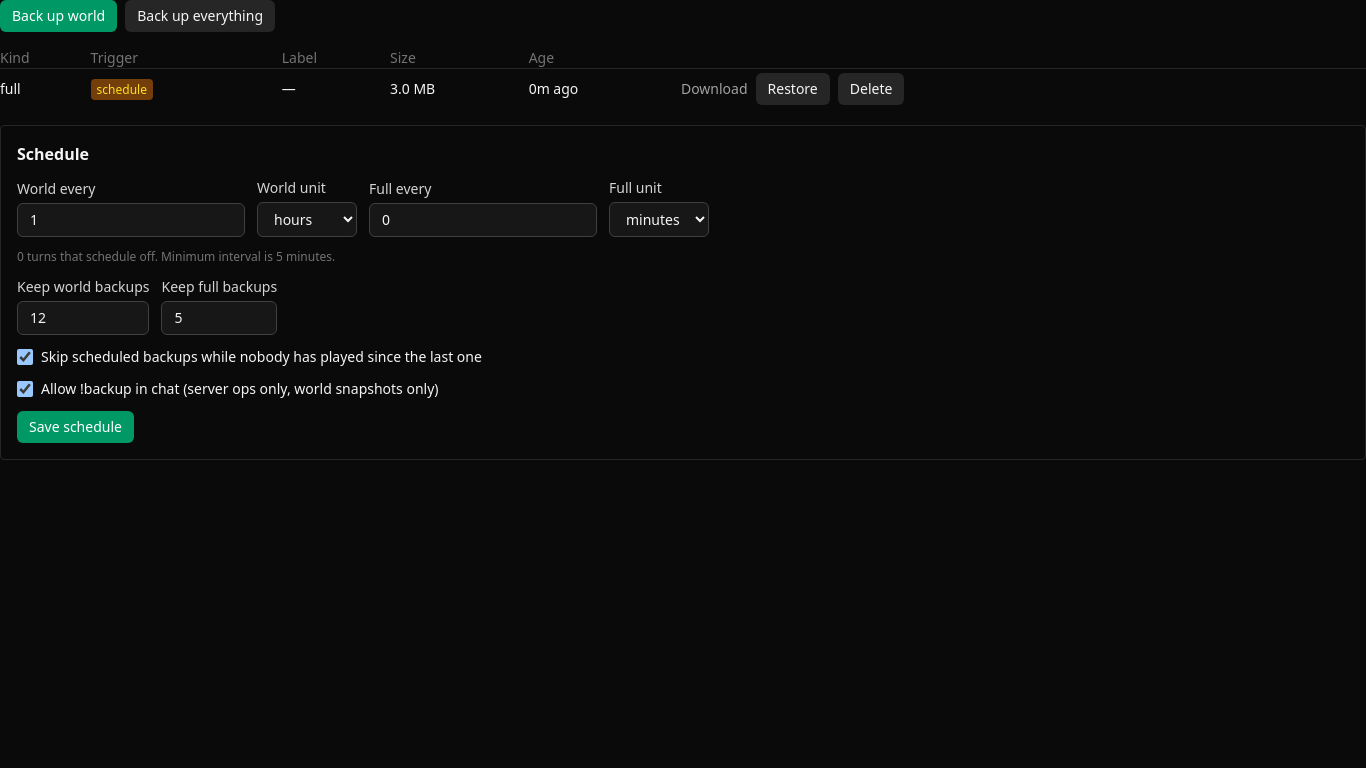
Test: BackupsTab › surfaces a failed restore instead of silently doing nothing
Click the button "Restore" at (793, 89), box [756,73,830,105]
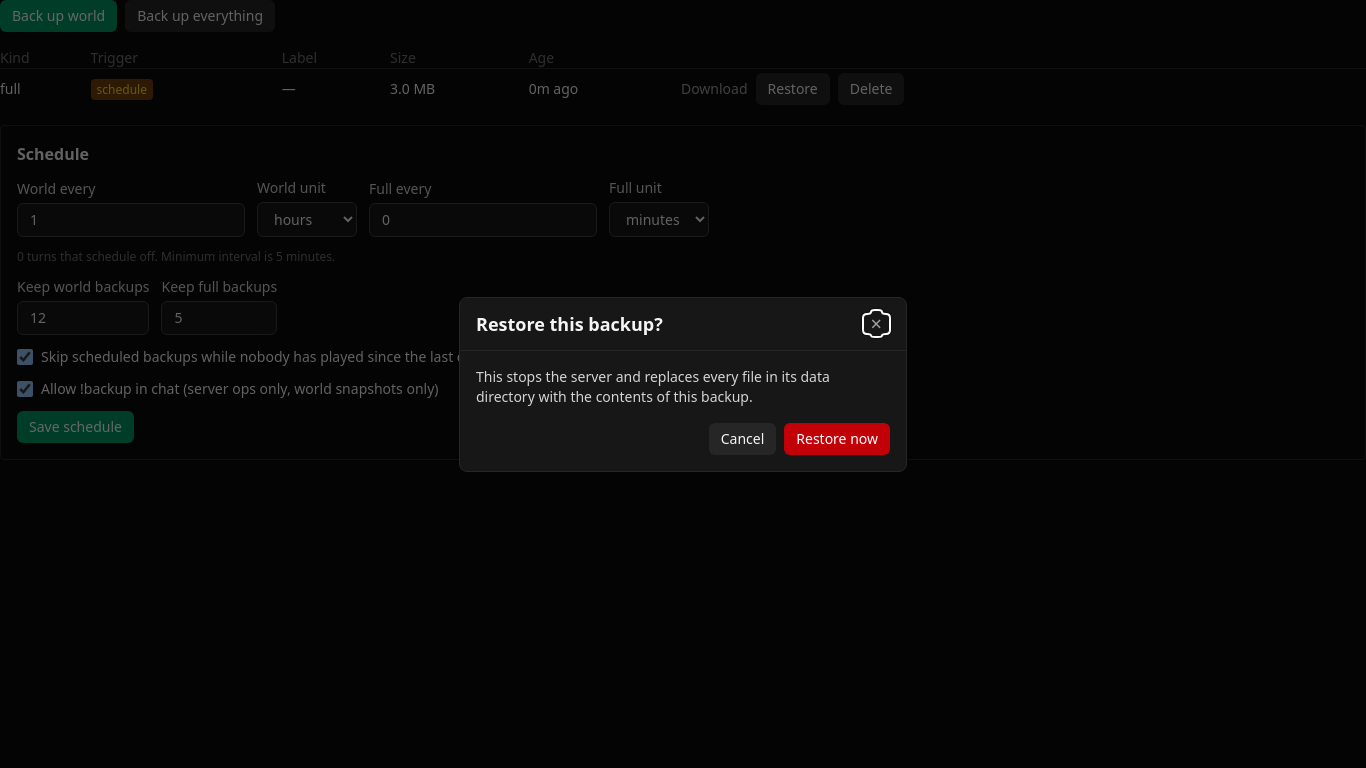
Click the button "Restore now" at (837, 438), box [784,422,890,454]
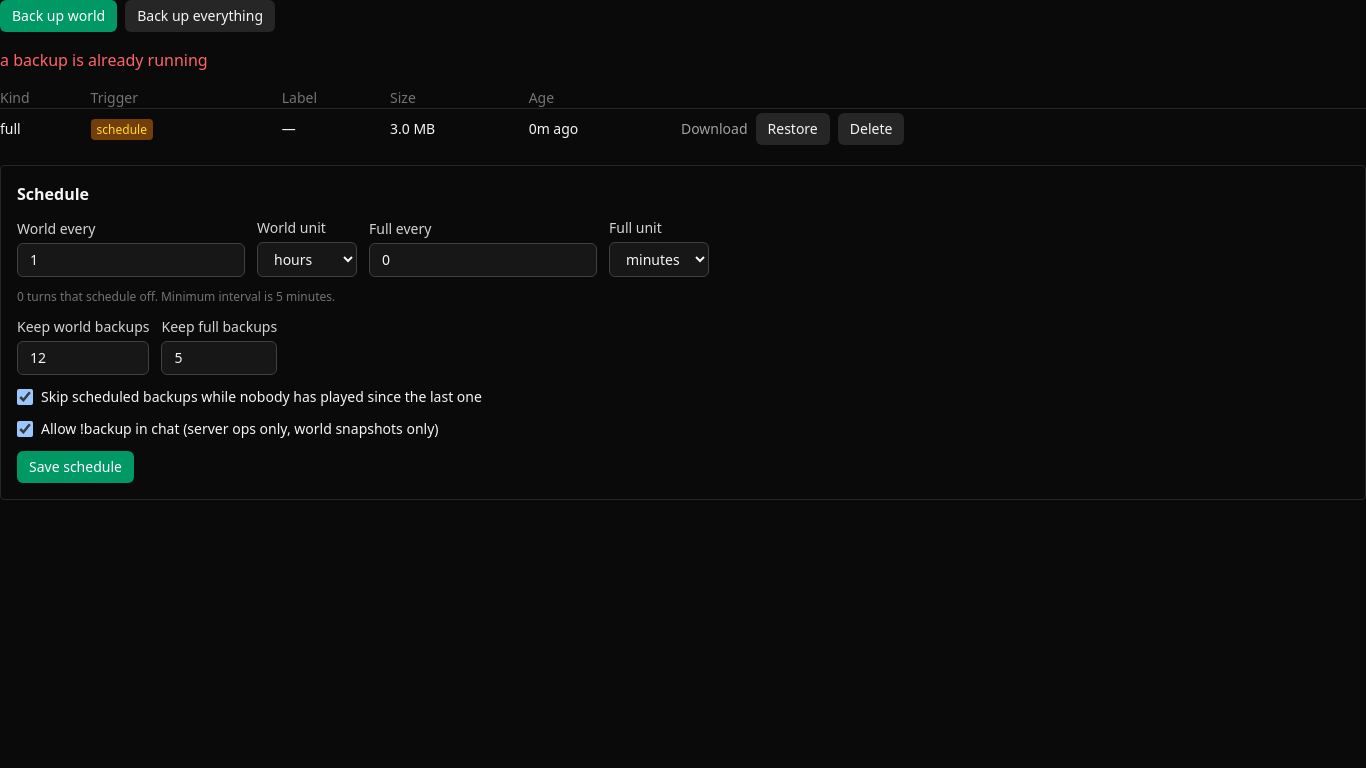
Expected: the text "a backup is already running" is shown, [0,49,208,71]
